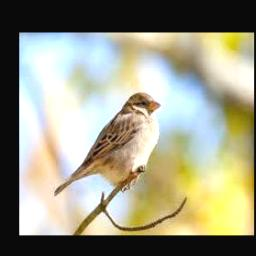Sparrow: (54, 91, 161, 198)
